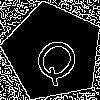Q: (28, 27, 91, 89)
